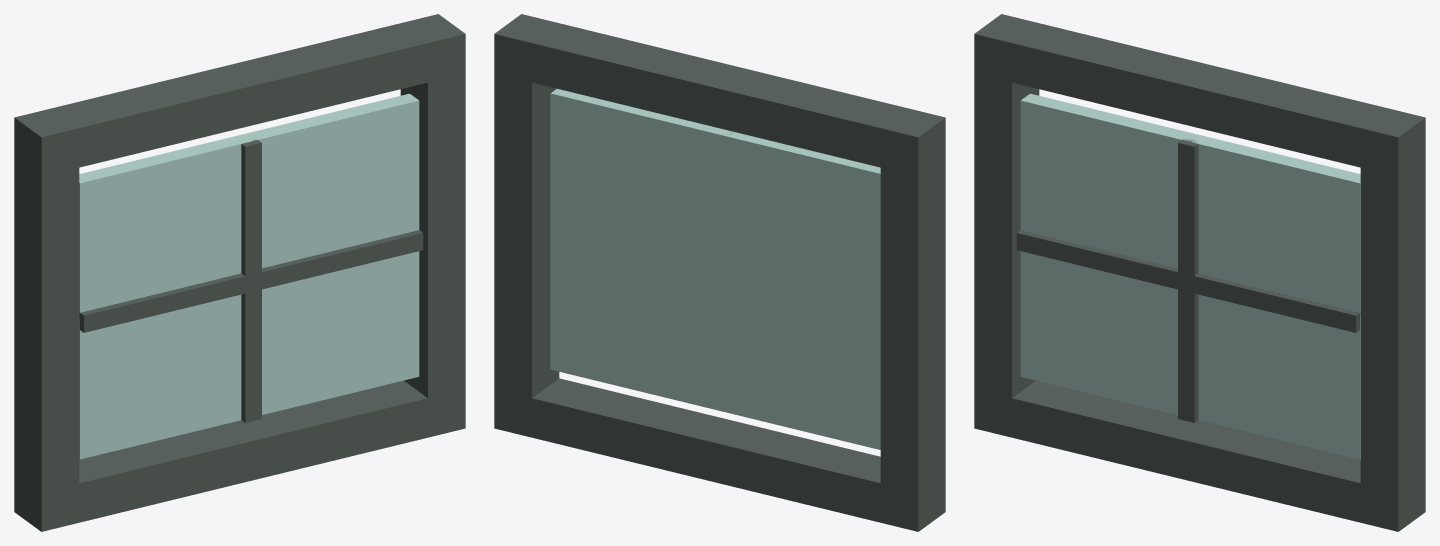
3 renders of one model, left to right at view 1: azimuth 30°, elevation 25°; view 2: azimuth 150°, elevation 25°; view 3: azimuth 330°, elevation 25°, orthographic.
Parts seen in each view (by area): view 1: pane, frame-top, frame-bottom, frame-left, frame-right, mullion-h, mullion-v; view 2: pane, frame-top, frame-bottom, frame-left, frame-right; view 3: pane, frame-top, frame-bottom, frame-right, frame-left, mullion-h, mullion-v.
Part boxes in pixels (box(x1,y1,x2,y2)): pane: box(79, 93, 419, 459); frame-top: box(14, 14, 465, 176); frame-bottom: box(14, 380, 465, 531); frame-left: box(14, 157, 79, 492); frame-right: box(400, 73, 465, 397); mullion-h: box(79, 230, 423, 332); mullion-v: box(241, 139, 261, 422); pane: box(550, 88, 880, 449); frame-top: box(494, 14, 945, 176); frame-bottom: box(494, 378, 945, 531); frame-left: box(880, 157, 945, 492); frame-right: box(494, 73, 559, 397); pane: box(1020, 93, 1360, 459); frame-top: box(974, 14, 1425, 176); frame-bottom: box(974, 380, 1425, 531); frame-right: box(1360, 157, 1425, 492); frame-left: box(974, 73, 1039, 397); mullion-h: box(1016, 230, 1360, 332); mullion-v: box(1178, 138, 1198, 422).
Bounding box in the file's own units: 0.9 × 0.8 × 0.1.
